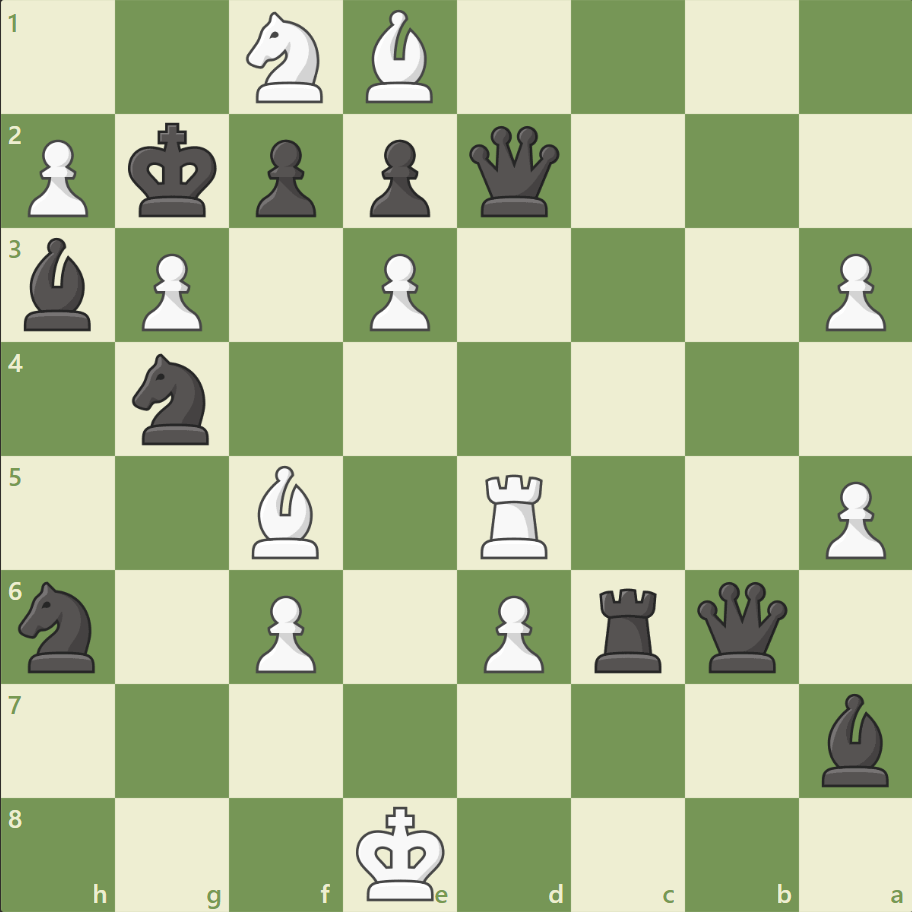B: (244, 460, 328, 563), (358, 6, 442, 109)
K: (351, 798, 451, 906)
N: (238, 7, 335, 110)
P: (474, 586, 549, 677), (247, 586, 322, 677), (133, 246, 208, 337), (20, 132, 95, 223), (815, 473, 889, 564), (815, 246, 889, 337), (361, 246, 435, 337)
R: (473, 466, 556, 563)
b: (812, 687, 896, 790), (17, 233, 101, 336)
k: (124, 117, 224, 225)
n: (124, 348, 222, 450), (11, 575, 108, 677)
p: (247, 132, 322, 223), (361, 132, 435, 223)
q: (691, 576, 790, 676), (464, 122, 563, 222)
r: (587, 579, 670, 676)
